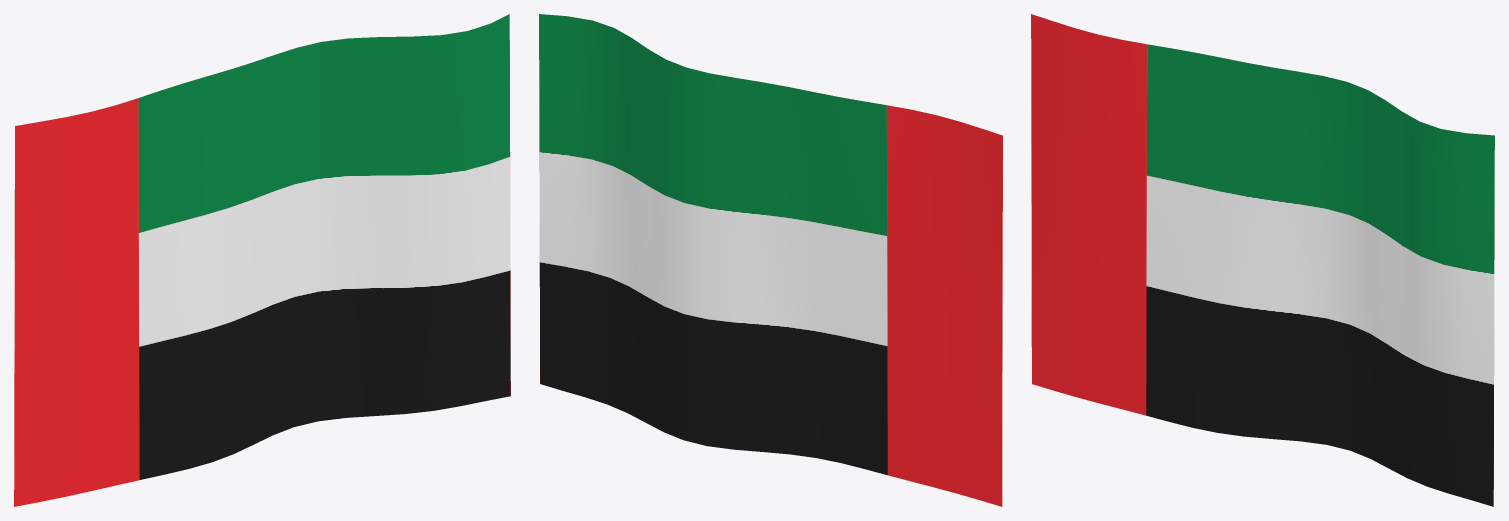
Rendered from AE_United_Arab_Emirates.glb.
3 renders of one model, left to right at view 1: azimuth 30°, elevation 25°; view 2: azimuth 150°, elevation 25°; view 3: azimuth 330°, elevation 25°, orthographic. The views are drawn at different scales.
Parts seen in each view (by area): view 1: AE_flag; view 2: AE_flag; view 3: AE_flag.
Boxes of the visible parts, box(x1,y1,x2,y2) form: AE_flag: box(14, 14, 510, 506); AE_flag: box(539, 14, 1002, 506); AE_flag: box(1031, 14, 1494, 506).
Size of the model in its own units: 1.33 by 1 by 0.1347.
Materials: 1 (1 with a texture image).
